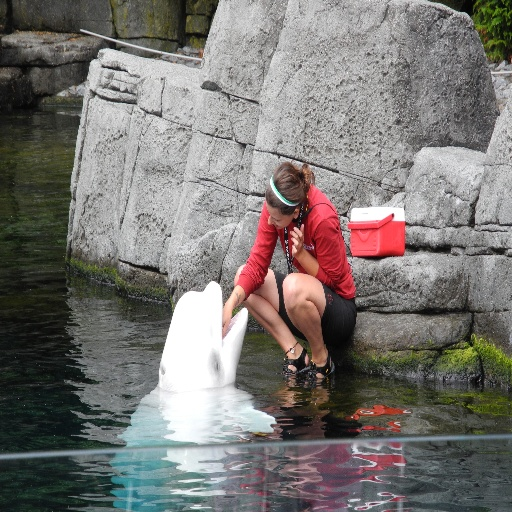hand: (288, 222, 305, 256), (222, 302, 233, 339)
